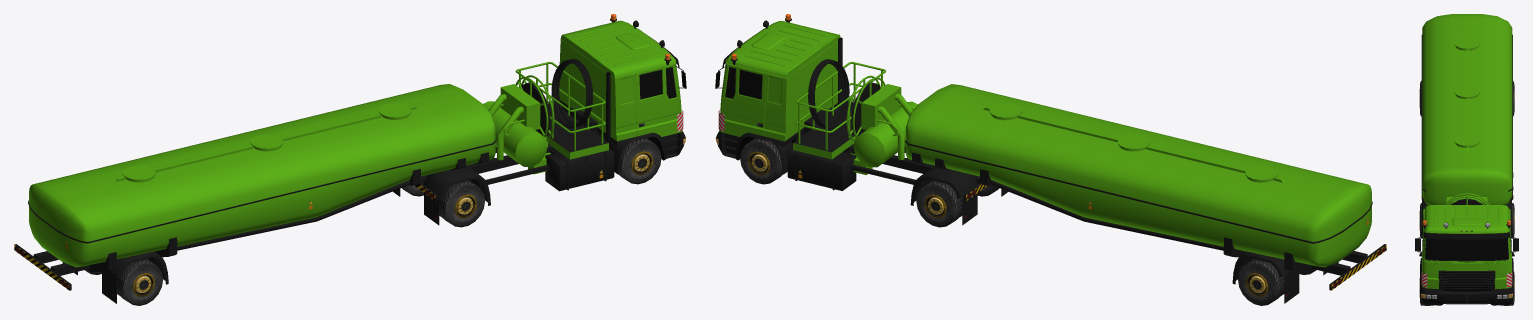
File: tanker.FBX
The picture shows the model from 3 angles, left to right: view 1: azimuth 30°, elevation 25°; view 2: azimuth 150°, elevation 25°; view 3: azimuth 270°, elevation 25°; orthographic projection. The views are drawn at different scales.
Parts seen in each view (by area): view 1: Object001, Line001, Cylinder002vv002, Cylinder002vv, Cylinder014vf; view 2: Object001, Line001, Cylinder002vv003, Cylinder002vv001, Cylinder014vf001; view 3: Object001, Line001, Cylinder002vv001, Cylinder002vv, Cylinder002vv002, Cylinder014vf001.
Boxes of the visible parts, x1=… form: Object001: x1=14, y1=84, x2=496, y2=303; Line001: x1=393, y1=14, x2=686, y2=225; Cylinder002vv002: x1=117, y1=259, x2=162, y2=305; Cylinder002vv: x1=439, y1=180, x2=484, y2=227; Cylinder014vf: x1=619, y1=138, x2=661, y2=184; Object001: x1=905, y1=84, x2=1386, y2=303; Line001: x1=715, y1=14, x2=1008, y2=225; Cylinder002vv003: x1=1238, y1=259, x2=1284, y2=305; Cylinder002vv001: x1=916, y1=180, x2=962, y2=227; Cylinder014vf001: x1=740, y1=138, x2=782, y2=184; Object001: x1=1421, y1=14, x2=1513, y2=205; Line001: x1=1415, y1=193, x2=1518, y2=305; Cylinder002vv001: x1=1511, y1=203, x2=1514, y2=238; Cylinder002vv: x1=1419, y1=203, x2=1422, y2=238; Cylinder002vv002: x1=1419, y1=81, x2=1421, y2=116; Cylinder014vf001: x1=1501, y1=271, x2=1514, y2=305.
Size of the model in its own units: 117 by 21.89 by 21.61.
